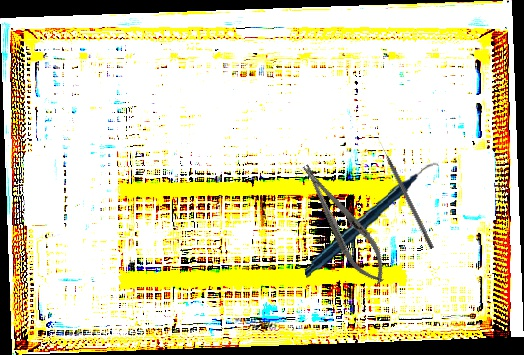Handpiece: (296, 162, 448, 278)
Hook Surgical: (375, 136, 436, 250)
Needle Holder: (290, 155, 397, 292)
